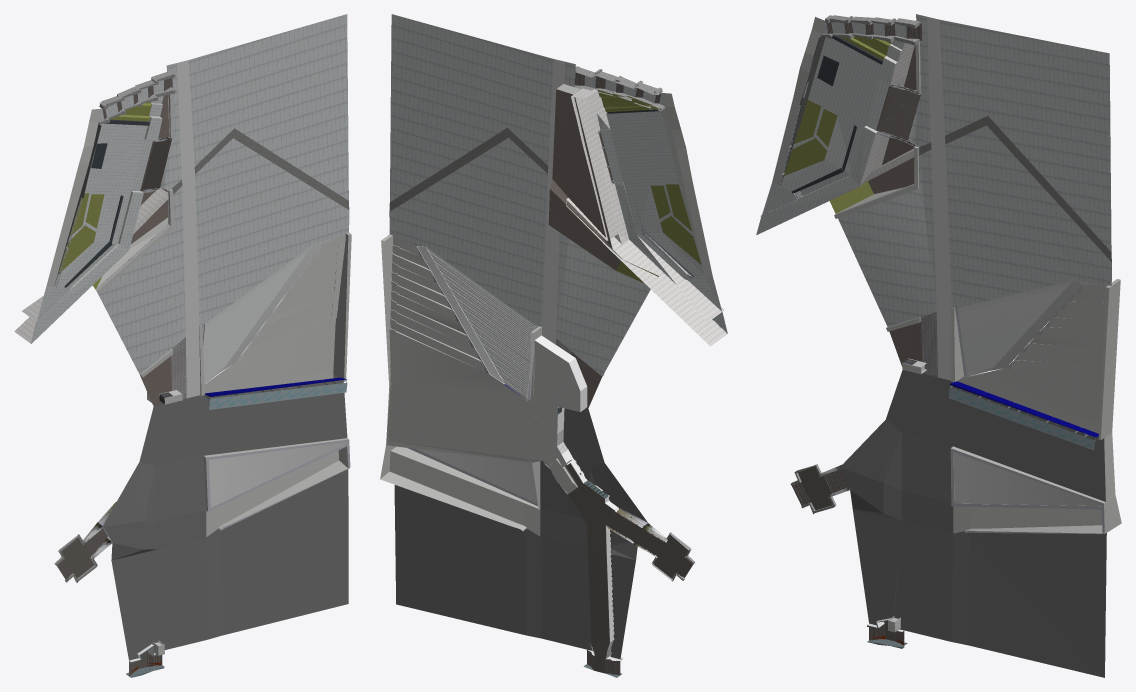
File: Kaarli_pst_1-origo.obj
3 views of the same model, side by side, from view 1: azimuth 30°, elevation 25°; view 2: azimuth 150°, elevation 25°; view 3: azimuth 330°, elevation 25° (orthographic). The views are drawn at different scales.
Visible parts, largest first — view 1: Kaarli_pst_1; view 2: Kaarli_pst_1; view 3: Kaarli_pst_1.
Boxes of the visible parts, x1,y1,x2,y2 form: Kaarli_pst_1: (14, 14, 351, 677); Kaarli_pst_1: (380, 14, 727, 677); Kaarli_pst_1: (756, 14, 1121, 677).
Bounding box in the file's own units: 108 × 190 × 15.15.
